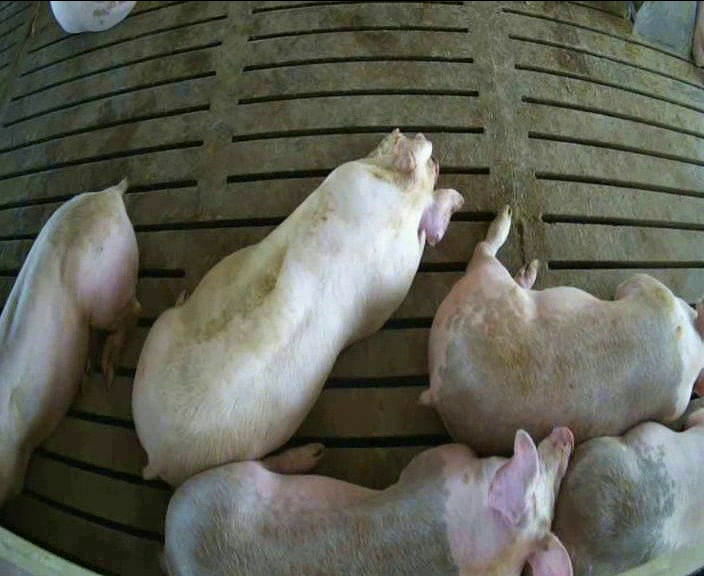pig: (132, 130, 462, 485), (423, 206, 703, 453), (166, 428, 572, 574), (0, 180, 137, 505), (553, 407, 703, 574)
